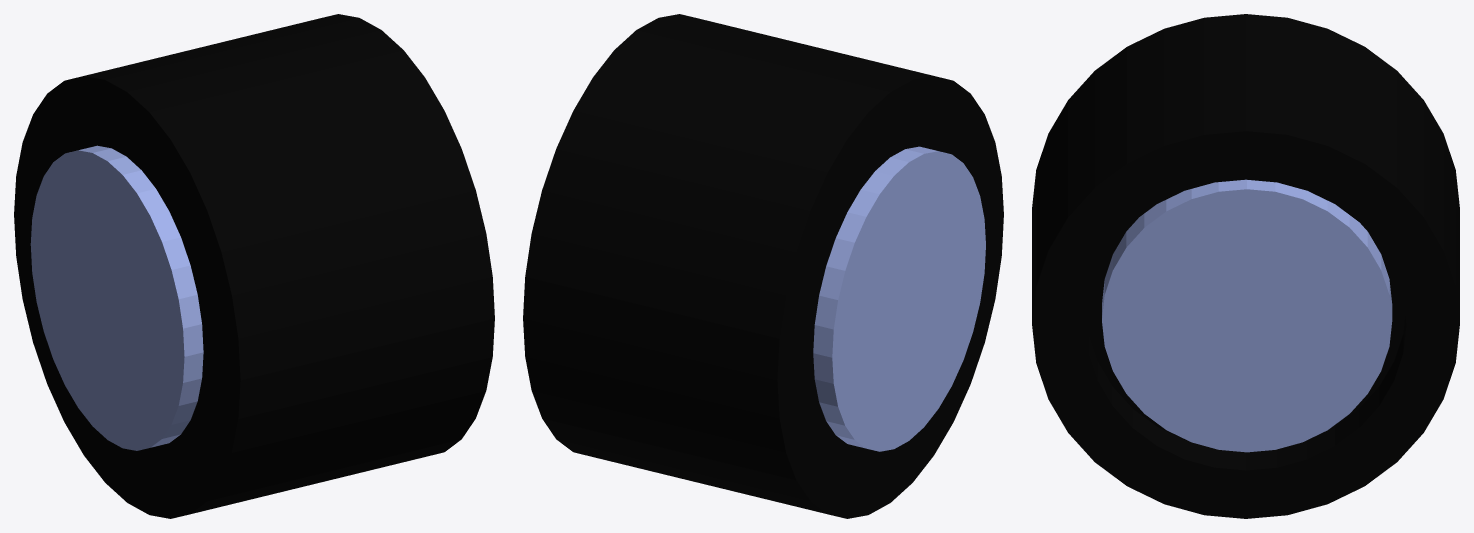
Rendered from wheel.fbx.
The picture shows the model from 3 angles, left to right: view 1: azimuth 30°, elevation 25°; view 2: azimuth 150°, elevation 25°; view 3: azimuth 270°, elevation 25°; orthographic projection. The views are drawn at different scales.
Parts seen in each view (by area): view 1: Cylinder, Cylinder.002; view 2: Cylinder, Cylinder.002; view 3: Cylinder, Cylinder.002.
Boxes of the visible parts, box(x1,y1,x2,y2) form: Cylinder: box(14, 14, 494, 518); Cylinder.002: box(30, 145, 203, 450); Cylinder: box(523, 14, 1003, 518); Cylinder.002: box(813, 146, 985, 451); Cylinder: box(1032, 14, 1459, 518); Cylinder.002: box(1102, 179, 1392, 452).
Size of the model in its own units: 126 by 180 by 180.
